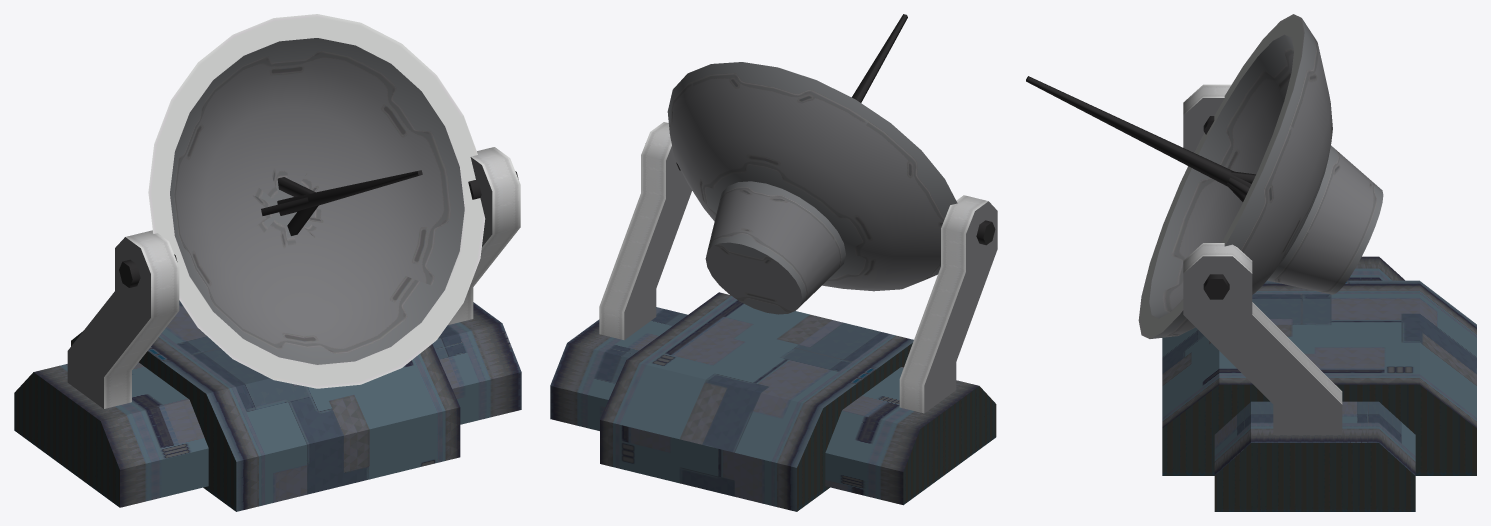
The model's file is mdlCLSatelliteDish.fbx.
3 renders of one model, left to right at view 1: azimuth 30°, elevation 25°; view 2: azimuth 150°, elevation 25°; view 3: azimuth 270°, elevation 25°, orthographic. The views are drawn at different scales.
Visible parts, largest first — view 1: Satellite Dish; view 2: Satellite Dish; view 3: Satellite Dish.
Part boxes in pixels (x1=…): Satellite Dish: x1=14, y1=14, x2=521, y2=511; Satellite Dish: x1=550, y1=14, x2=997, y2=511; Satellite Dish: x1=1026, y1=14, x2=1476, y2=511.
Bounding box in the file's own units: 1884 × 1845 × 1925.
